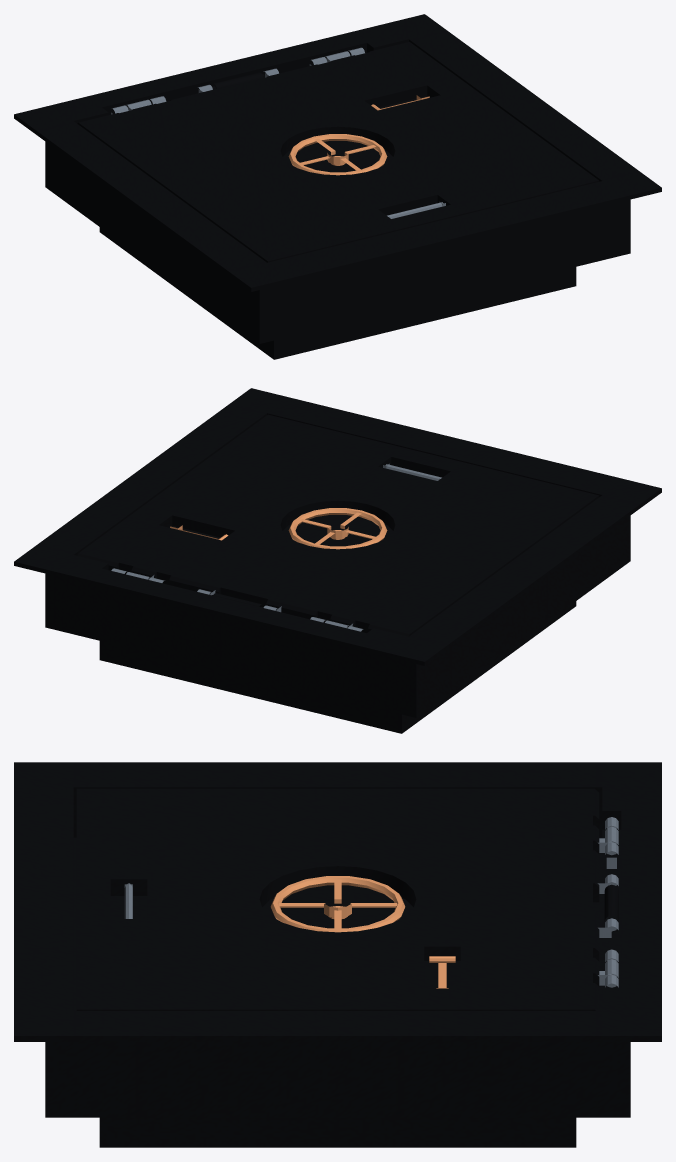
The picture shows the model from 3 angles, top to bottom: view 1: azimuth 30°, elevation 25°; view 2: azimuth 150°, elevation 25°; view 3: azimuth 270°, elevation 25°; orthographic projection. The views are drawn at different scales.
Visible parts, largest first — view 1: hatch_frame, hatch_leaf_shell, hatch_OverrideOrange_Handwheel; view 2: hatch_frame, hatch_leaf_shell, hatch_OverrideOrange_Handwheel; view 3: hatch_frame, hatch_leaf_shell, hatch_OverrideOrange_Handwheel, hatch_HingeHeavy_leaf, hatch_HingeHeavy_frame.
Part boxes in pixels (x1=…): hatch_frame: x1=14, y1=14, x2=661, y2=359; hatch_leaf_shell: x1=77, y1=42, x2=599, y2=262; hatch_OverrideOrange_Handwheel: x1=288, y1=134, x2=387, y2=175; hatch_frame: x1=14, y1=388, x2=661, y2=733; hatch_leaf_shell: x1=77, y1=414, x2=599, y2=636; hatch_OverrideOrange_Handwheel: x1=288, y1=508, x2=387, y2=549; hatch_frame: x1=14, y1=762, x2=661, y2=1147; hatch_leaf_shell: x1=76, y1=788, x2=599, y2=1010; hatch_OverrideOrange_Handwheel: x1=270, y1=876, x2=405, y2=932; hatch_HingeHeavy_leaf: x1=597, y1=826, x2=618, y2=985; hatch_HingeHeavy_frame: x1=605, y1=817, x2=618, y2=987.
Size of what is drawn, in the model's own units: 1.24 by 0.312 by 1.24.
5 materials, 3 textured.
